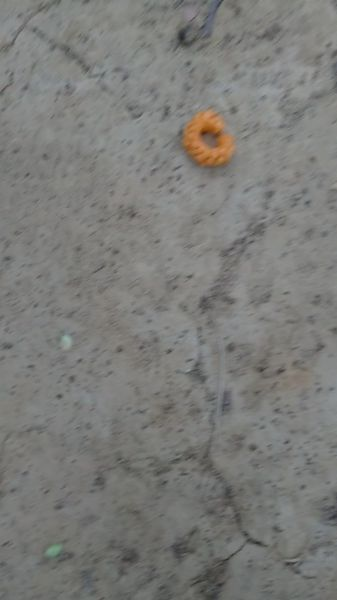eggs: (181, 111, 235, 169)
